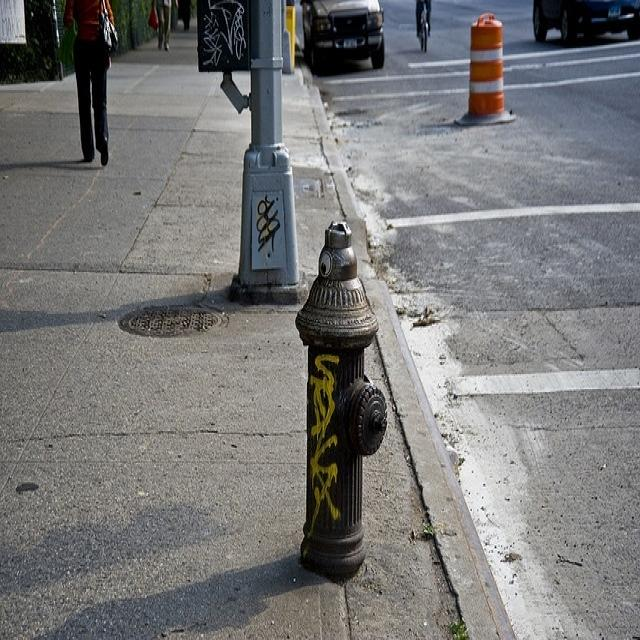fire_hydrant: (282, 158, 432, 590)
